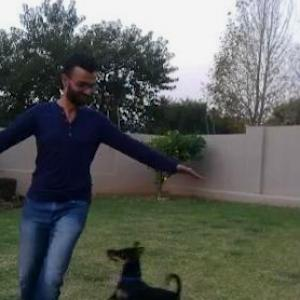land: (0, 65, 170, 299)
